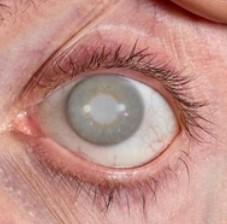eye: (64, 73, 146, 146)
